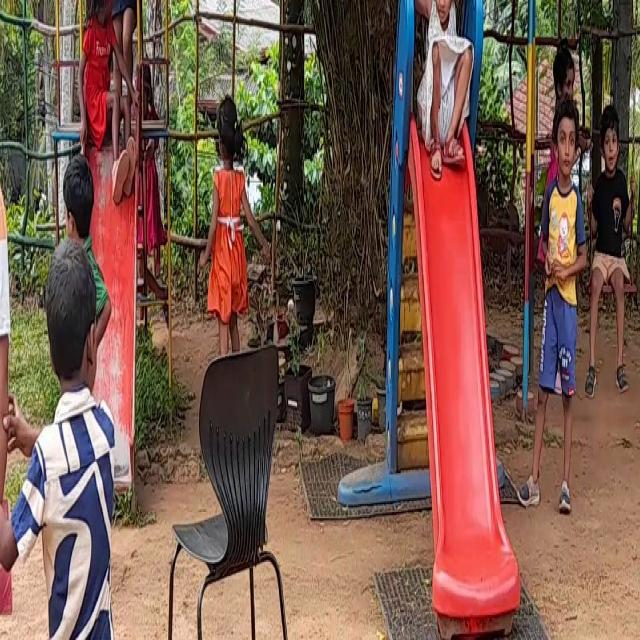child: (31, 225, 130, 640), (534, 71, 576, 528), (202, 53, 257, 347), (401, 0, 477, 197), (591, 58, 632, 401), (74, 0, 137, 204)
